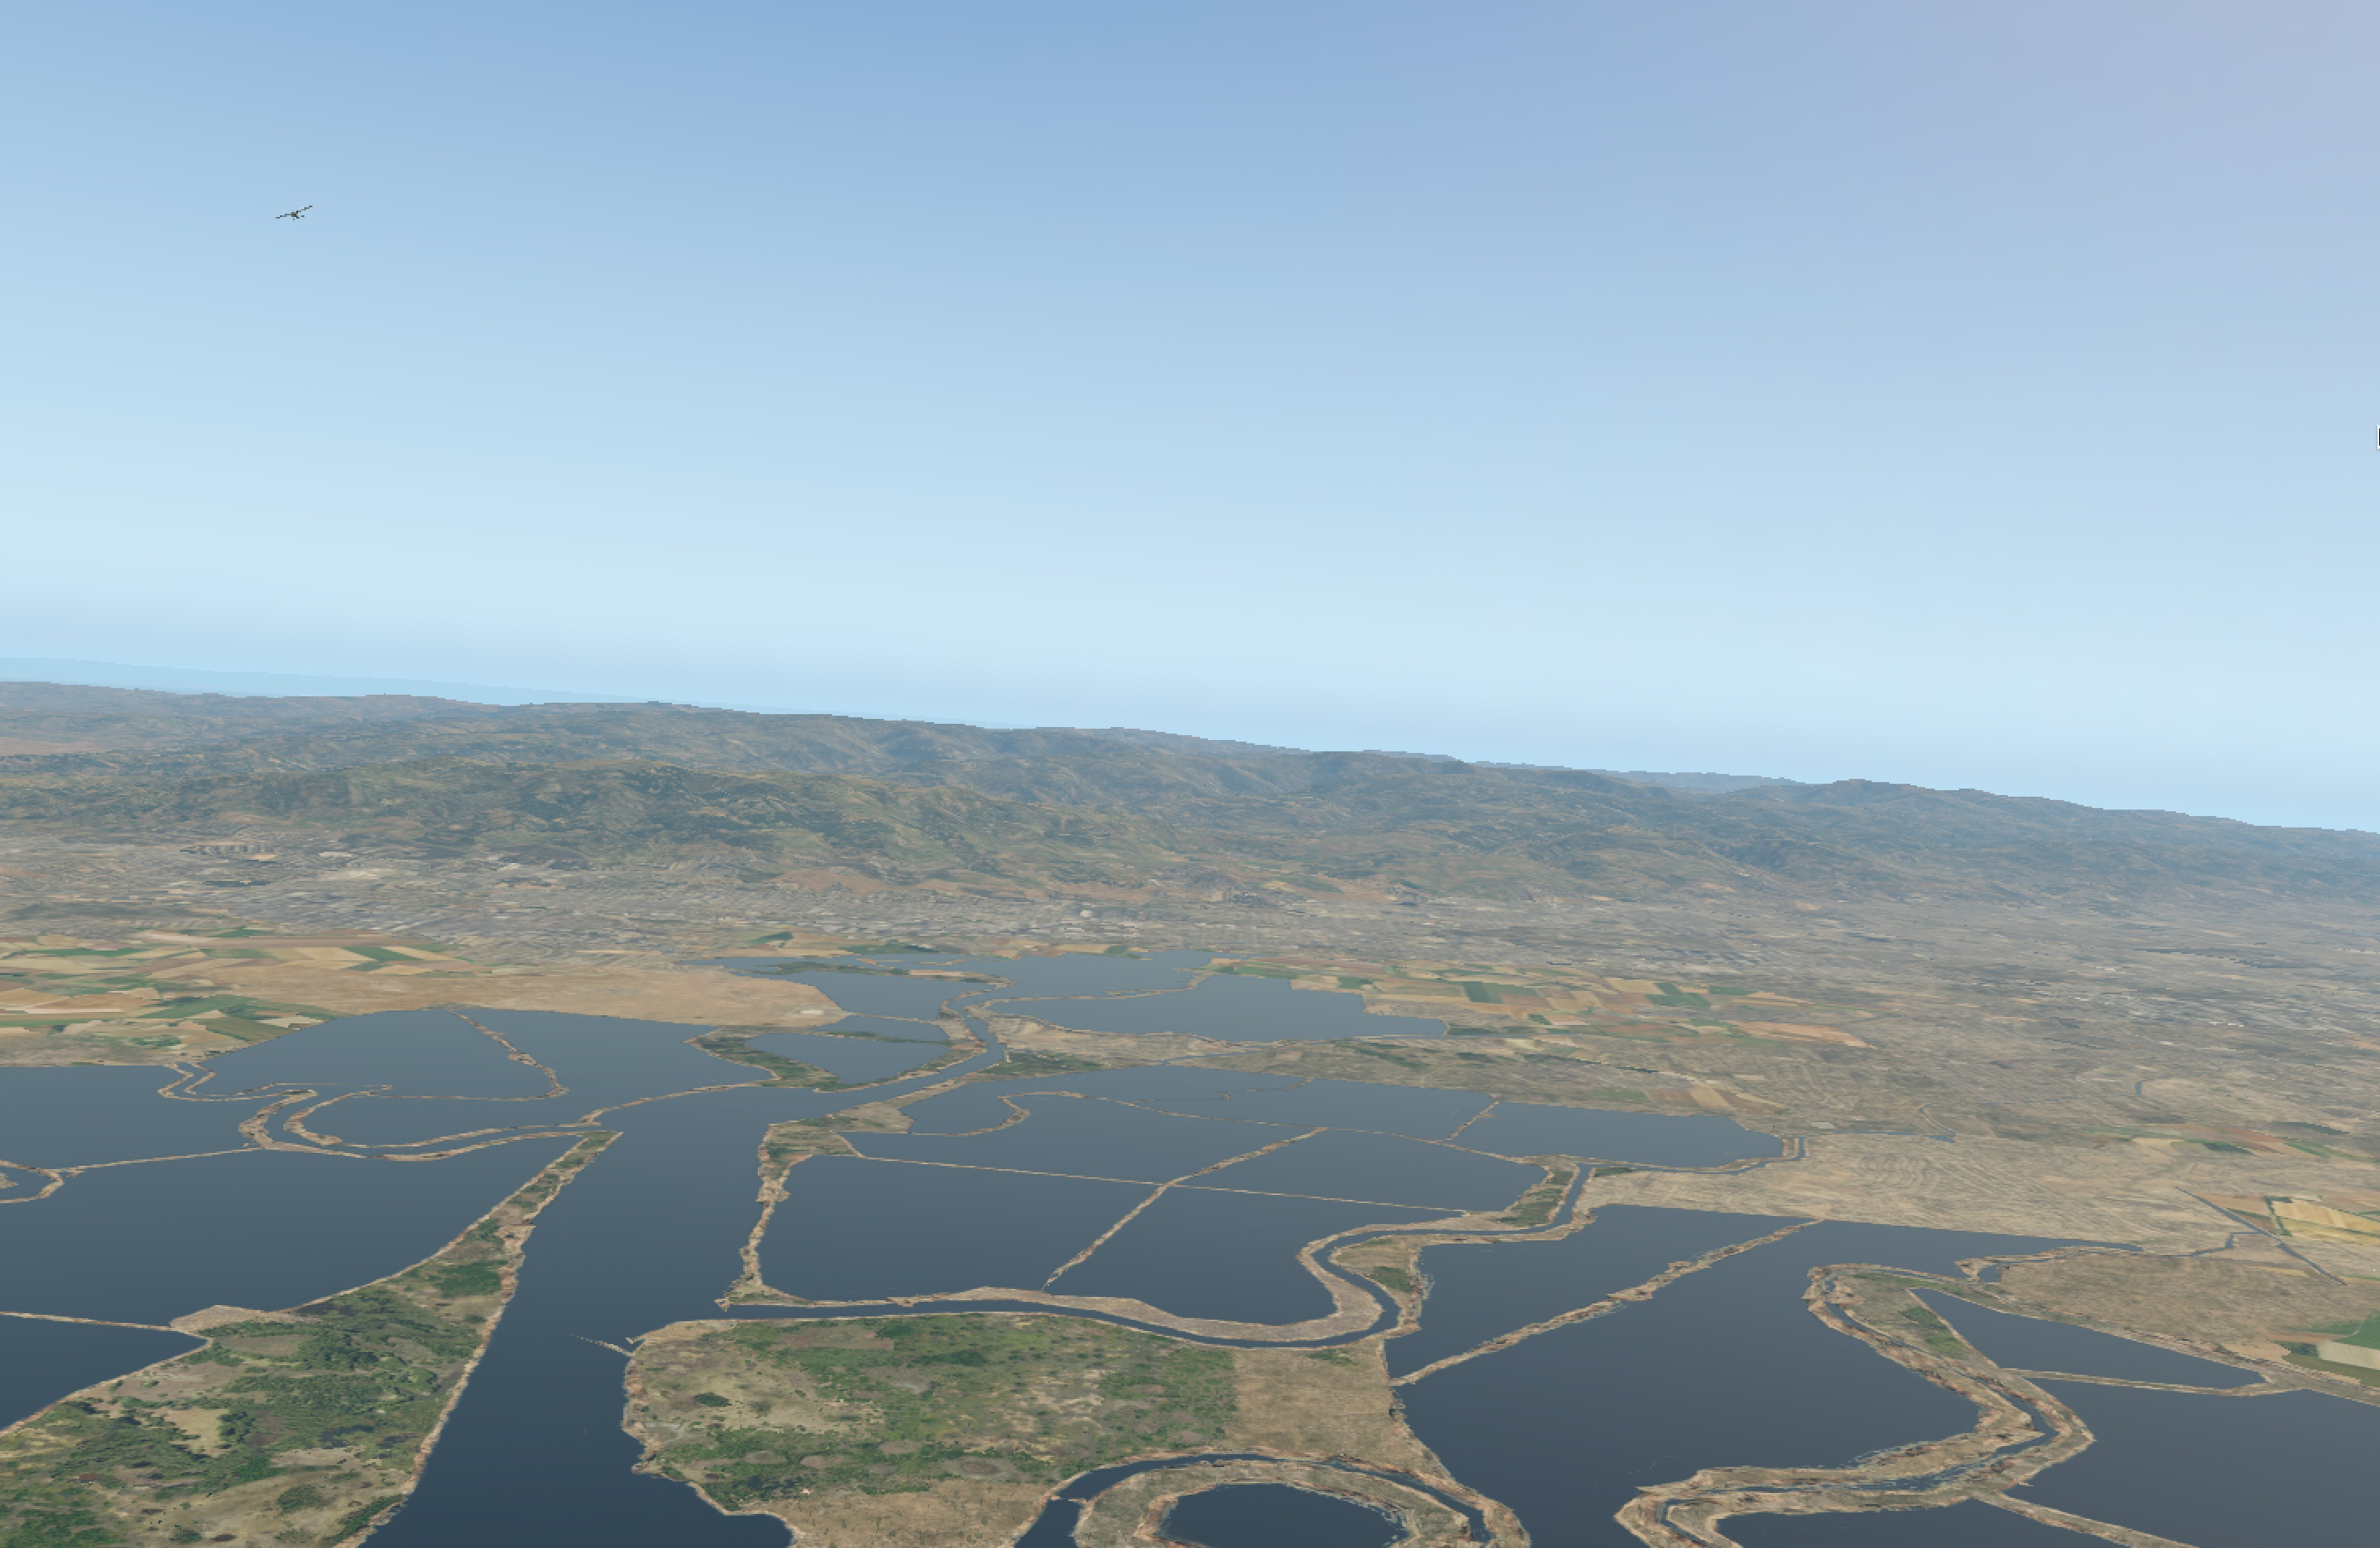aircraft: (283, 210, 307, 219)
